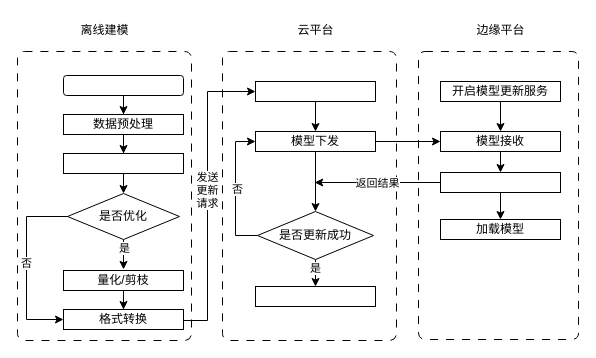
Some shapes in this 596 by 358 pixel diagram are drawn without their labels. The shapes that lost their labels are listed below. From the top down, each one's centre as x and y in pixels, then its label:
At (x=123, y=85): "架空输电线路数据集".
At (x=315, y=91): "接收到模型更新请求".
At (x=123, y=163): "模型训练".
At (x=500, y=182): "替换原模型".
At (x=315, y=296): "记录更新日志".
